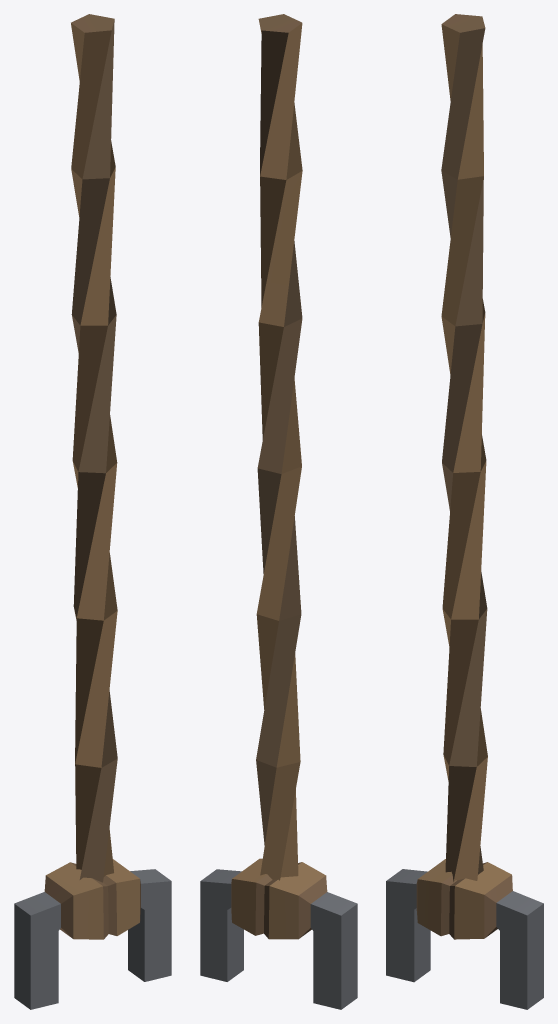
The model's file is SM_Prop_Sign_Chain_02.glb.
3 renders of one model, left to right at view 1: azimuth 30°, elevation 25°; view 2: azimuth 150°, elevation 25°; view 3: azimuth 330°, elevation 25°, orthographic.
Visible parts, largest first — view 1: SM_Prop_Sign_Chain_02; view 2: SM_Prop_Sign_Chain_02; view 3: SM_Prop_Sign_Chain_02.
Part boxes in pixels (x1=…): SM_Prop_Sign_Chain_02: x1=14, y1=14, x2=171, y2=1009; SM_Prop_Sign_Chain_02: x1=200, y1=14, x2=357, y2=1009; SM_Prop_Sign_Chain_02: x1=386, y1=14, x2=543, y2=1009.
Size of the model in its own units: 9.07 by 59.13 by 3.83.
1 material, 1 textured.
